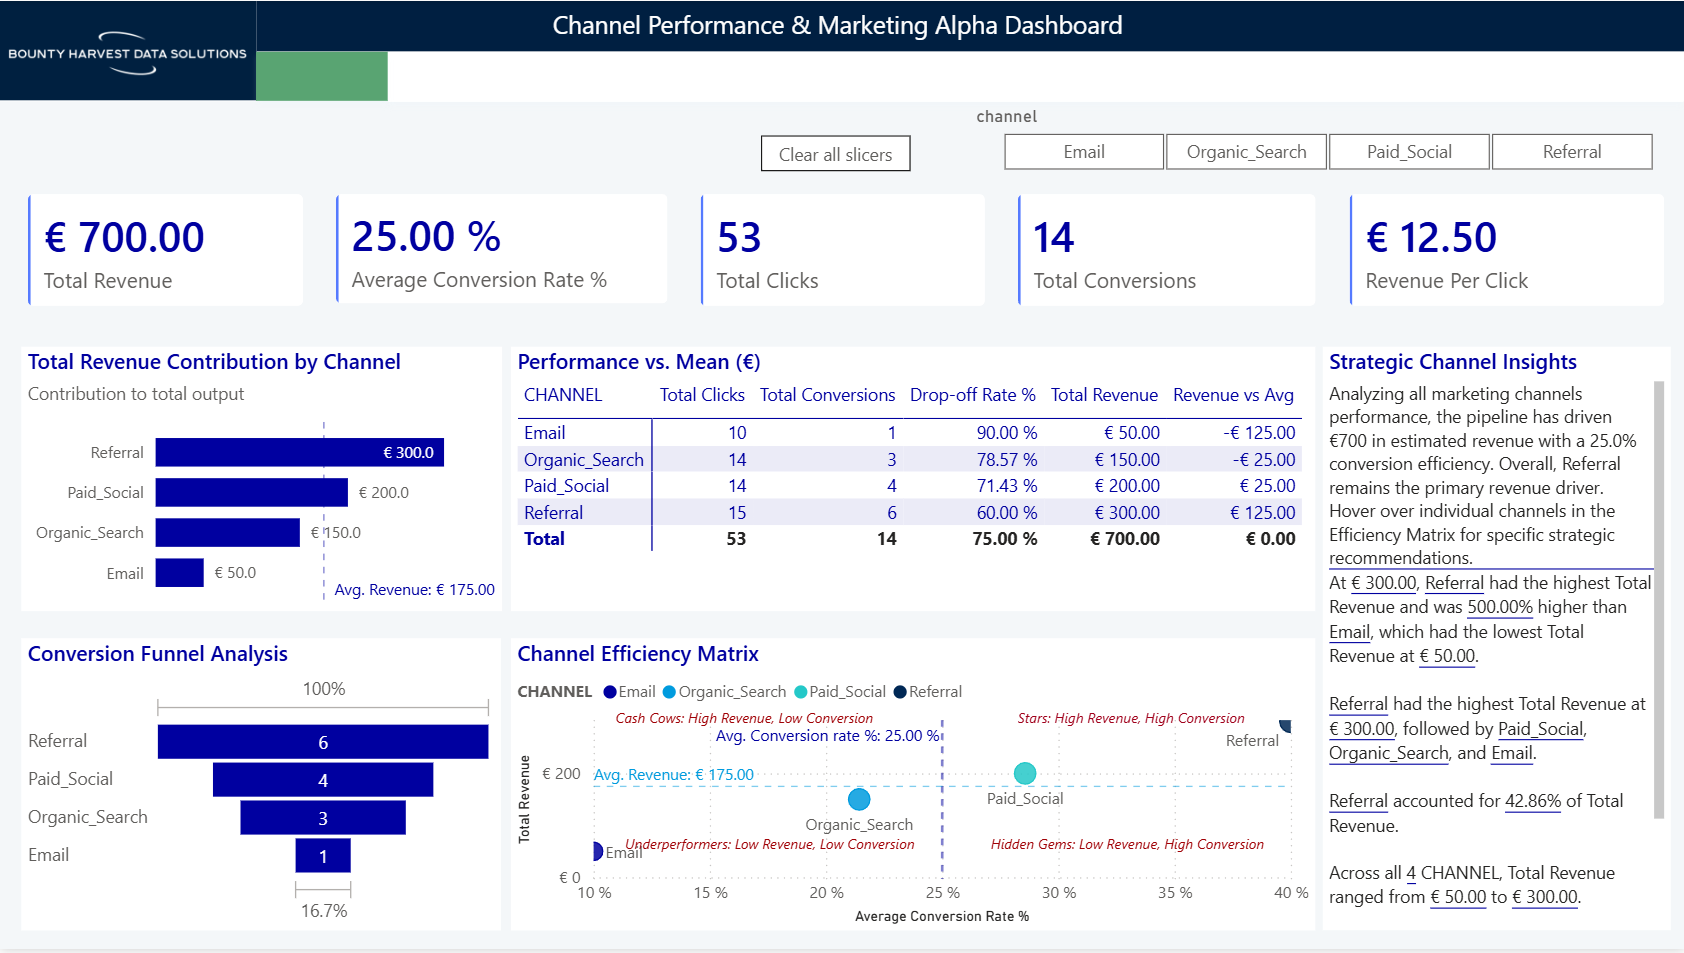

The page's visual inventory and layout, read from the dashboard file:
{"tool":"powerbi","page":{"name":"Page 1","canvas":[1280,720],"ordinal":0},"visuals":[{"type":"group","id":"g1","title":"Group 1","box":[0,0,1279.5,76.4],"z":0,"group":"g2"},{"type":"funnel","title":"Conversion Funnel Analysis","fields":{"Category":["Dim_Channel.CHANNEL"],"Y":["_Measures.Total Conversions"]},"box":[16.1,484,364.8,222.3],"z":0},{"type":"group","id":"g2","title":"Group 2","box":[0,0,1279.5,76.4],"z":500,"group":"g3"},{"type":"shape","title":"Horizontal Shape","box":[295.3,38.2,984.2,38.2],"z":1000,"group":"g1"},{"type":"clusteredBarChart","title":"Total Revenue Contribution by Channel","fields":{"Category":["Dim_Channel.CHANNEL"],"Y":["_Measures.Total Revenue"]},"box":[15.9,262.8,365.3,200.7],"z":1000},{"type":"shape","title":"Horizontal Shape","box":[194.5,0,1084.9,38.2],"z":2000,"group":"g1"},{"type":"scatterChart","title":"Channel Efficiency Matrix","fields":{"X":["_Measures.Average Conversion Rate %"],"Y":["_Measures.Total Revenue"],"Series":["Dim_Channel.CHANNEL"],"Size":["_Measures.Total Clicks"]},"box":[388.1,484,611.3,222.3],"z":2000},{"type":"cardVisual","fields":{"Data":["_Measures.Total Revenue"]},"box":[15.9,141.3,219.2,95.2],"z":3000},{"type":"image","box":[0,0,194.5,76.2],"z":4000,"group":"g1"},{"type":"textbox","title":"Report Title","box":[333.5,0,606,35.9],"z":4000,"group":"g3"},{"type":"cardVisual","fields":{"Data":["_Measures.Revenue Per Click"]},"box":[1019.7,141.3,249.5,95.2],"z":4000},{"type":"pageNavigator","box":[295.3,38.2,984.2,38.2],"z":5000,"group":"g2"},{"type":"cardVisual","fields":{"Data":["_Measures.Total Conversions"]},"box":[768.4,141.3,236.5,95.2],"z":5000},{"type":"shape","title":"Horizontal Shape","box":[194.5,38.5,100.4,37.6],"z":6000,"group":"g1"},{"type":"actionButton","box":[578.3,101.8,113.5,26.9],"z":6000},{"type":"group","id":"g3","title":"Group 3","box":[0,0,1279.5,76.4],"z":7000},{"type":"cardVisual","fields":{"Data":["_Measures.Average Conversion Rate %"]},"box":[249.9,141.3,262.5,93.8],"z":8000},{"type":"pivotTable","title":"Performance vs. Mean (€)","fields":{"Values":["_Measures.Total Clicks","_Measures.Total Conversions","_Measures.Drop-off Rate %","_Measures.Total Revenue","_Measures.Revenue Performance vs Avg"],"Rows":["Dim_Channel.CHANNEL"]},"box":[388.4,262.8,610.8,200.7],"z":9000},{"type":"slicer","title":"channel","fields":{"Values":["Dim_Channel.CHANNEL"]},"box":[737,79.3,542.3,56.3],"z":10000},{"type":"cardVisual","fields":{"Data":["_Measures.Total Clicks"]},"box":[527.2,141.3,226.4,95.2],"z":11000},{"type":"textbox","title":"Strategic Channel Insights","box":[1005,262.8,264.2,443.3],"z":12000},{"type":"textbox","box":[768.2,528.9,189.1,32.3],"z":13000},{"type":"textbox","box":[462.5,528.9,232.2,32.3],"z":14000},{"type":"textbox","box":[747.6,624.8,232.2,32.3],"z":15000},{"type":"textbox","box":[469.7,624.8,232.2,32.3],"z":16000}]}

Visuals, with their boxes in screenshot pixels (x1, y1, x2, y2), scaled from the page's 1280x720 canvas onto the 1684x953 screenshot:
"Group 1" group: locate(0, 0, 1683, 101)
"Conversion Funnel Analysis" funnel: locate(21, 641, 501, 935)
"Group 2" group: locate(0, 0, 1683, 101)
"Horizontal Shape" shape: locate(389, 51, 1683, 101)
"Total Revenue Contribution by Channel" clusteredBarChart: locate(21, 348, 502, 613)
"Horizontal Shape" shape: locate(256, 0, 1683, 51)
"Channel Efficiency Matrix" scatterChart: locate(511, 641, 1315, 935)
cardVisual - _Measures.Total Revenue: locate(21, 187, 309, 313)
image: locate(0, 0, 256, 101)
"Report Title" textbox: locate(439, 0, 1236, 48)
cardVisual - _Measures.Revenue Per Click: locate(1342, 187, 1670, 313)
pageNavigator: locate(389, 51, 1683, 101)
cardVisual - _Measures.Total Conversions: locate(1011, 187, 1322, 313)
"Horizontal Shape" shape: locate(256, 51, 388, 101)
actionButton: locate(761, 135, 910, 170)
"Group 3" group: locate(0, 0, 1683, 101)
cardVisual - _Measures.Average Conversion Rate %: locate(329, 187, 674, 311)
"Performance vs. Mean (€)" pivotTable: locate(511, 348, 1315, 613)
"channel" slicer: locate(970, 105, 1683, 179)
cardVisual - _Measures.Total Clicks: locate(694, 187, 991, 313)
"Strategic Channel Insights" textbox: locate(1322, 348, 1670, 935)
textbox: locate(1011, 700, 1259, 743)
textbox: locate(608, 700, 914, 743)
textbox: locate(984, 827, 1289, 870)
textbox: locate(618, 827, 923, 870)
